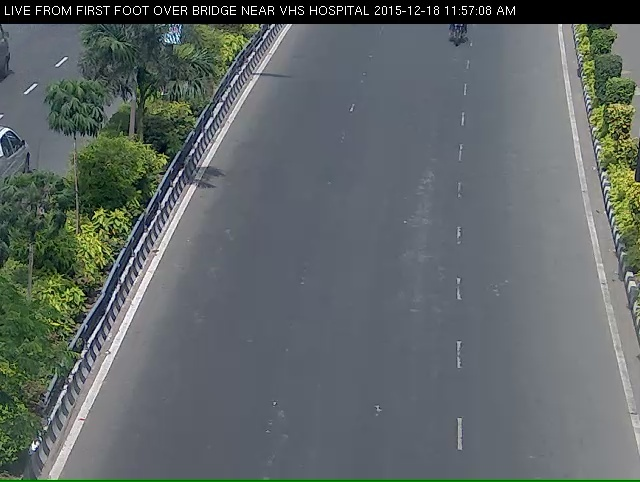Person: (442, 22, 475, 60)
